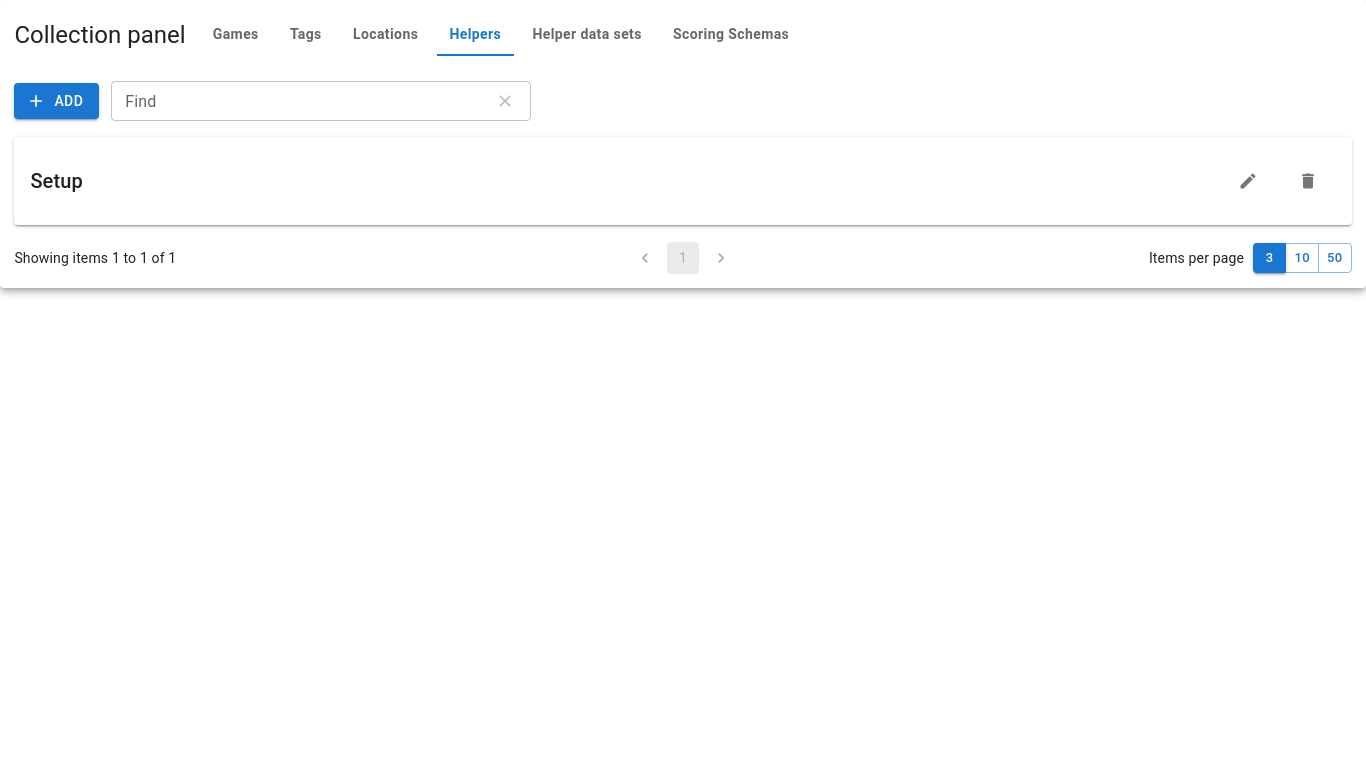
Test: collection data permissions › FULL allows editing owned helper
Expected: the heading "Setup" is shown, [30,169,83,193]
Expected: the button "Add" is enabled, [14,83,99,119]
Click the button named "Edit item": (1248, 181) [1220,153,1276,209]
(page scrolled)
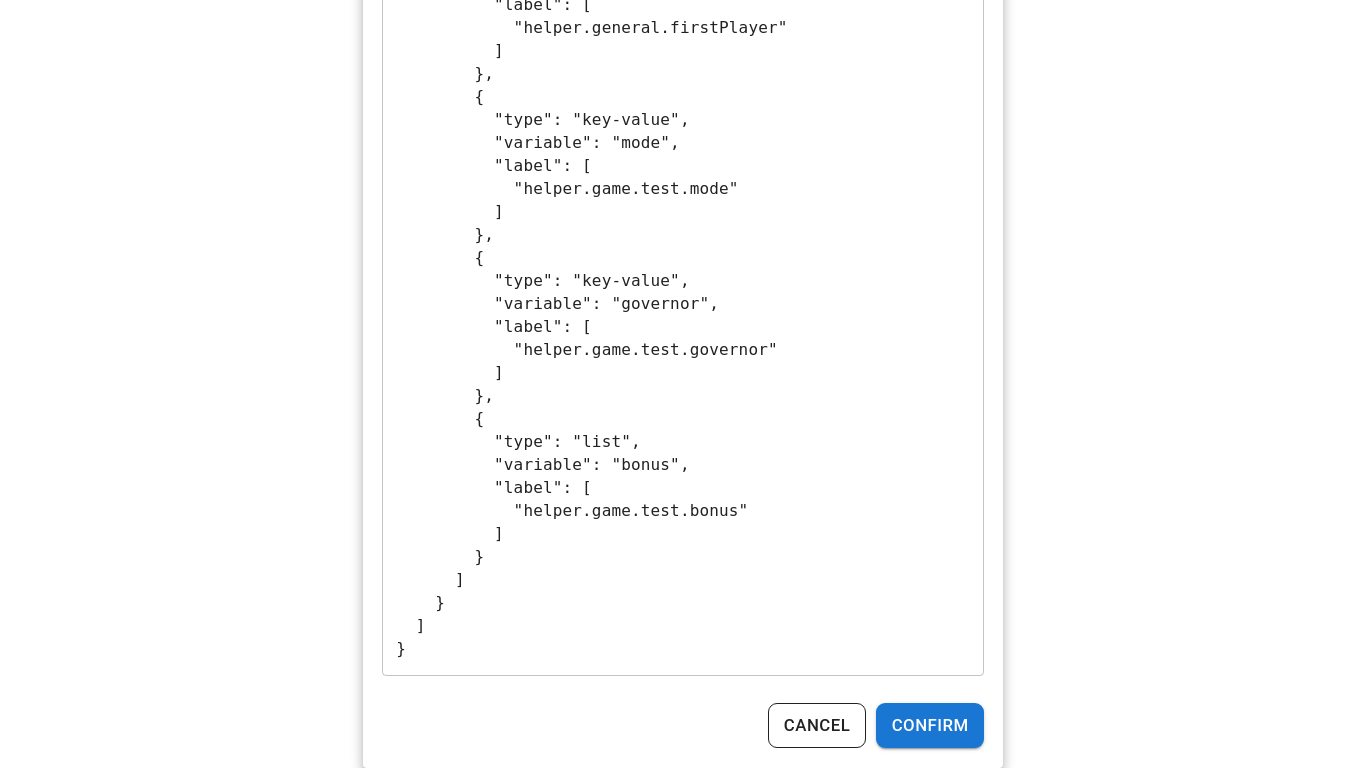
Expected: the button "Confirm" is enabled, [876,703,984,748]
